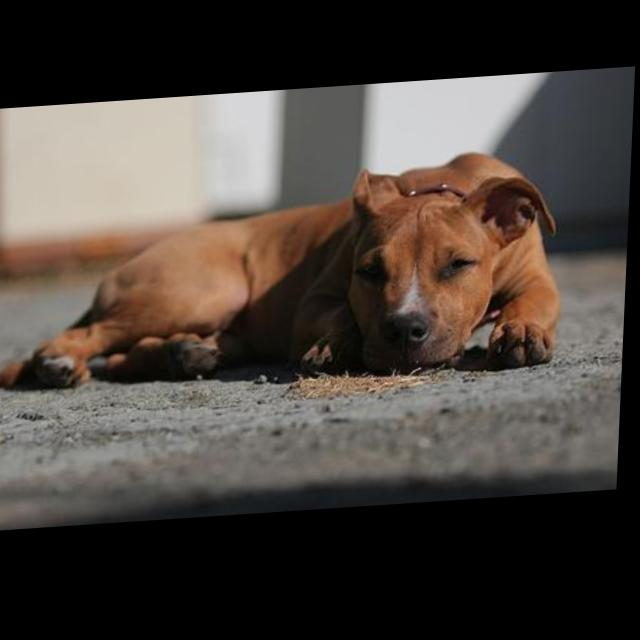amstaff: (1, 153, 573, 404)
